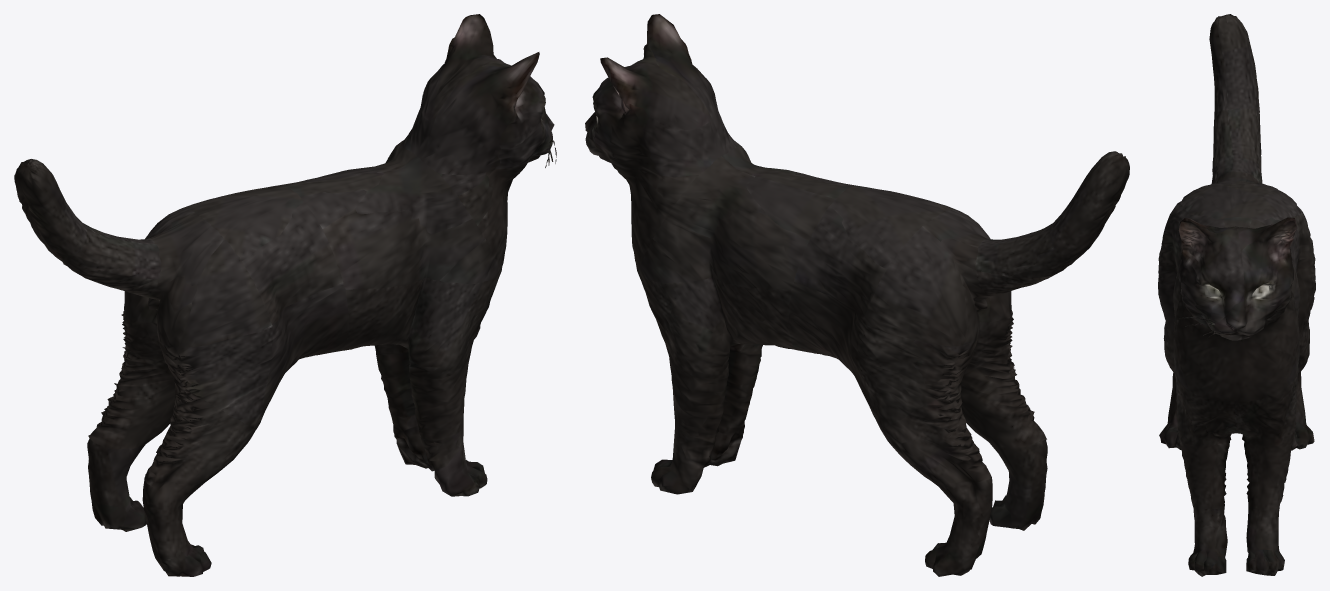
File: CATFLAP-lo.glb
The picture shows the model from 3 angles, left to right: view 1: azimuth 30°, elevation 25°; view 2: azimuth 150°, elevation 25°; view 3: azimuth 270°, elevation 25°; orthographic projection. The views are drawn at different scales.
Parts seen in each view (by area): view 1: tripo_node_0e356019-a5e7-474f-a71e-219b72062b20; view 2: tripo_node_0e356019-a5e7-474f-a71e-219b72062b20; view 3: tripo_node_0e356019-a5e7-474f-a71e-219b72062b20.
Boxes of the visible parts, x1,y1,x2,y2 form: tripo_node_0e356019-a5e7-474f-a71e-219b72062b20: (14,14,556,576); tripo_node_0e356019-a5e7-474f-a71e-219b72062b20: (585,14,1129,576); tripo_node_0e356019-a5e7-474f-a71e-219b72062b20: (1158,14,1315,576).
Size of the model in its own units: 1.31 by 0.9959 by 0.3758.
Materials: 1 (1 with a texture image).
